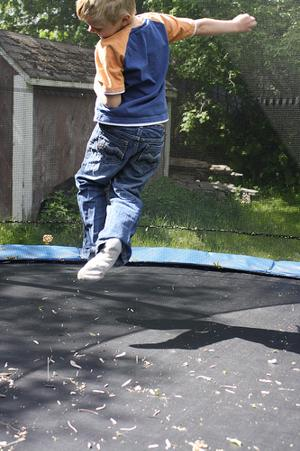person: (74, 3, 256, 285)
